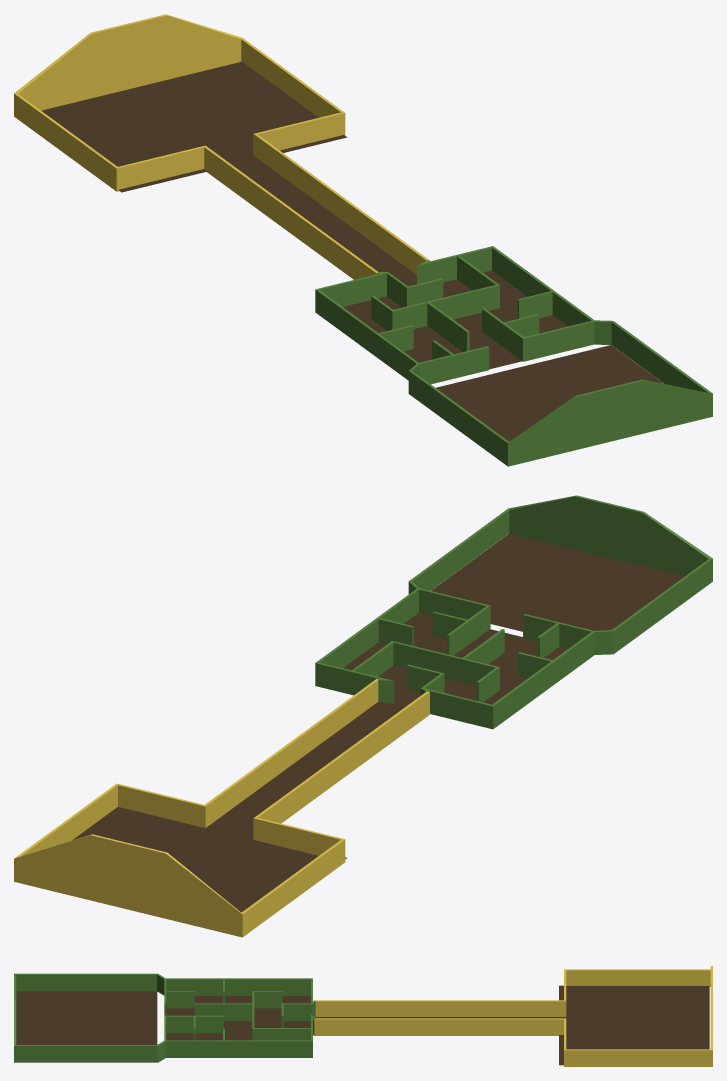
File: mazeEasy.gltf
3 views of the same model, one above another, from view 1: azimuth 30°, elevation 25°; view 2: azimuth 150°, elevation 25°; view 3: azimuth 270°, elevation 25° (orthographic). The views are drawn at different scales.
Visible parts, largest first — view 1: Walls, Ground.002, Plane; view 2: Walls, Plane, Ground.002; view 3: Walls, Plane, Ground.002.
Boxes of the visible parts, x1,y1,x2,y2 form: Walls: [14, 14, 712, 466]; Ground.002: [41, 61, 416, 286]; Plane: [343, 270, 663, 441]; Walls: [14, 495, 712, 937]; Plane: [343, 533, 684, 707]; Ground.002: [72, 701, 404, 912]; Walls: [14, 966, 712, 1066]; Plane: [16, 991, 310, 1044]; Ground.002: [315, 985, 709, 1065].
Bounding box in the file's own units: 2.61 × 0.7107 × 9.53.
